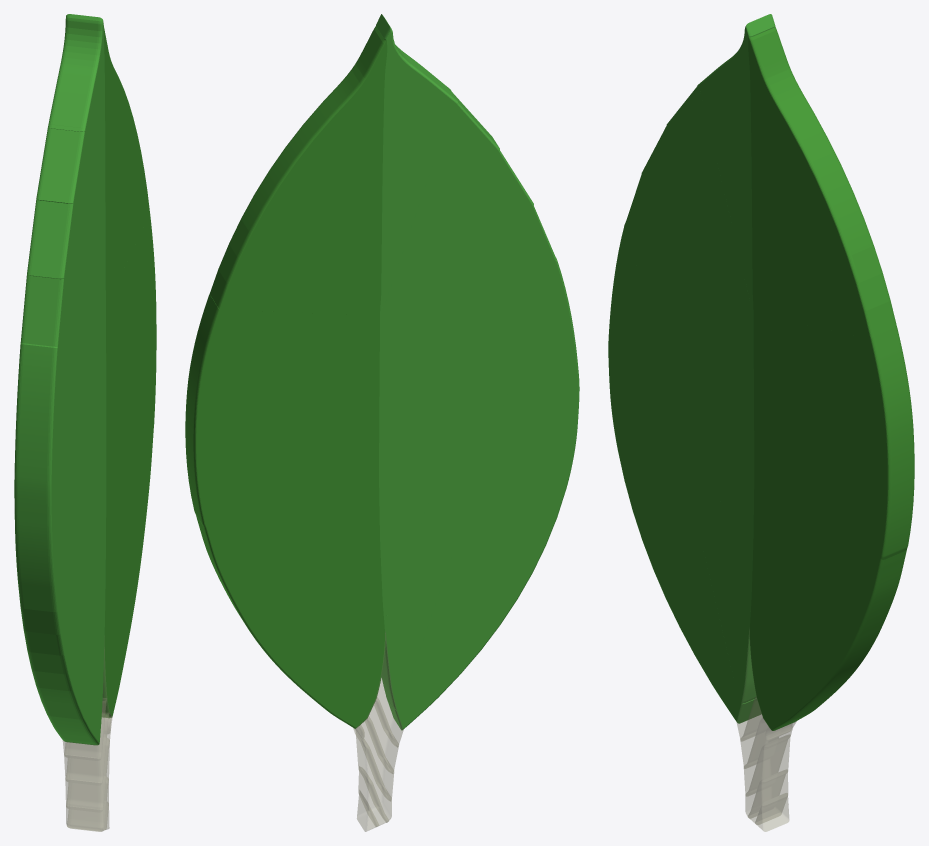
The model's file is mongodbModel.glb.
The picture shows the model from 3 angles, left to right: view 1: azimuth 30°, elevation 25°; view 2: azimuth 150°, elevation 25°; view 3: azimuth 270°, elevation 25°; orthographic projection. The views are drawn at different scales.
Visible parts, largest first — view 1: Mesh_1, Mesh_0, Mesh_10; view 2: Mesh_1, Mesh_0, Mesh_10; view 3: Mesh_0, Mesh_1, Mesh_10.
Boxes of the visible parts, x1=… form: Mesh_1: x1=14, y1=14, x2=106, y2=745; Mesh_0: x1=102, y1=28, x2=156, y2=717; Mesh_10: x1=63, y1=647, x2=112, y2=831; Mesh_1: x1=376, y1=14, x2=579, y2=730; Mesh_0: x1=185, y1=26, x2=387, y2=728; Mesh_10: x1=353, y1=632, x2=403, y2=831; Mesh_0: x1=748, y1=27, x2=914, y2=730; Mesh_1: x1=608, y1=14, x2=775, y2=723; Mesh_10: x1=737, y1=629, x2=796, y2=831.
Size of the model in its own units: 33.22 by 95.89 by 33.23.
